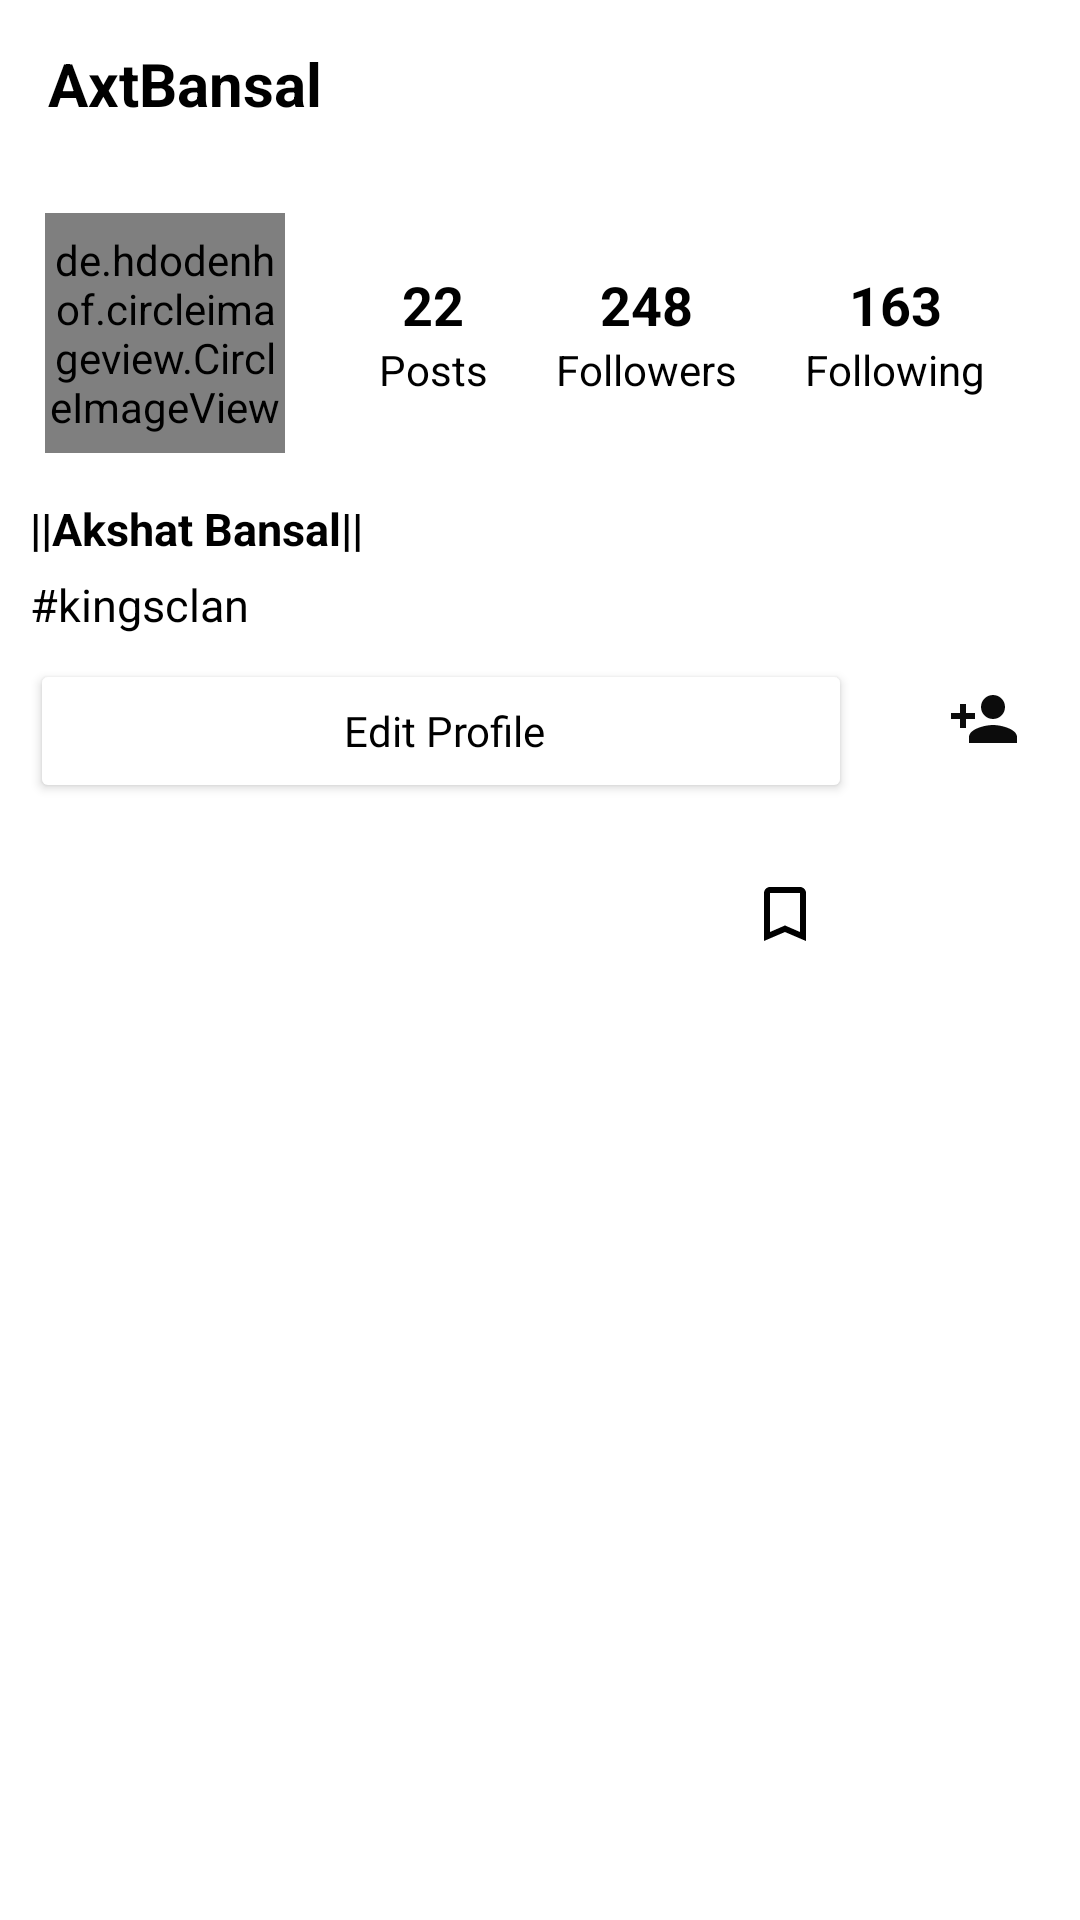

Where to tap for icons on this 1080 × 1920 app screen, as (x=x, y=y):
turned in not: (x=785, y=914)
